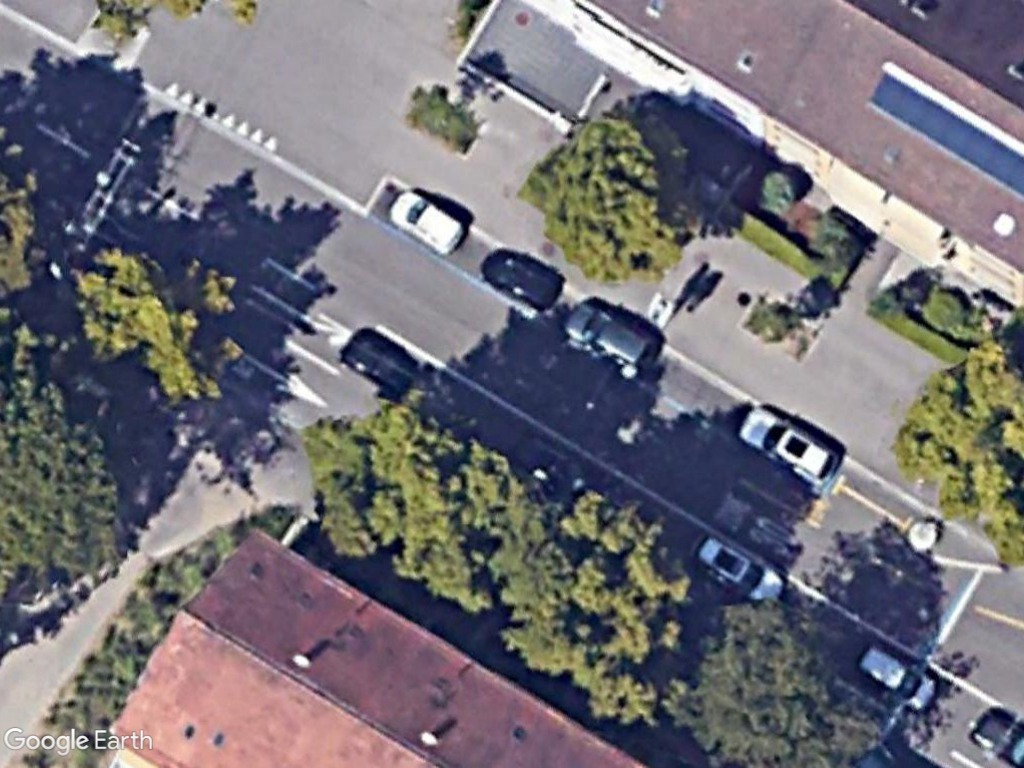car: (731, 401, 845, 495), (560, 295, 661, 376), (686, 529, 785, 611), (382, 183, 471, 259), (856, 640, 939, 714)
